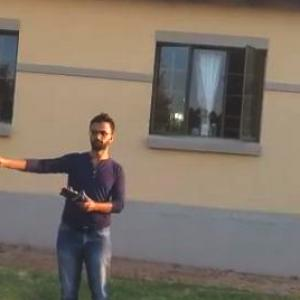follow: (0, 100, 132, 299)
